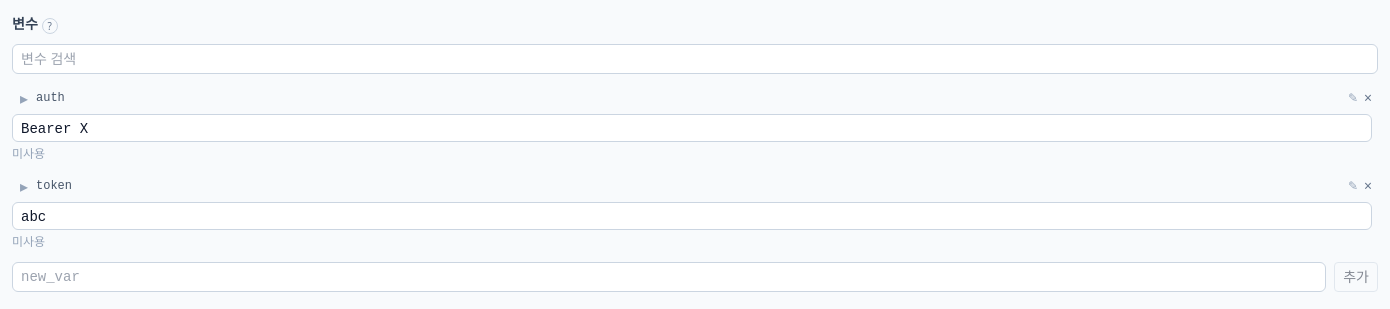
VariablesPanel › filters rows by case-insensitive substring over name, value, and branch display
Step 1. Type "AUT" into the field with placeholder "변수 검색" → (695, 59), box [12,44,1378,74]
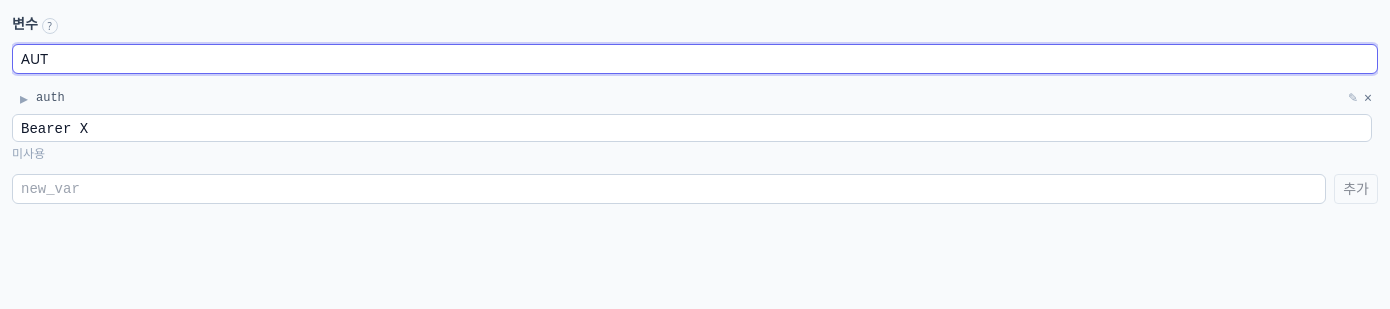
Expected: the text "auth" is shown, [36,91,65,105]
Now the text "token" is gone
Step 2. Replace the text in the field with placeholder "변수 검색" with "bearer" → (695, 59), box [12,44,1378,74]
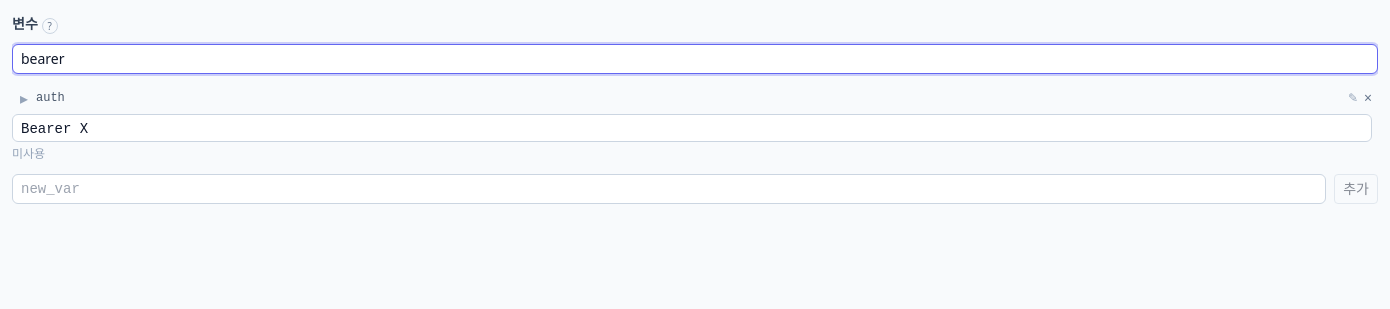
Expected: the text "auth" is shown, [36,91,65,105]
Step 3. Replace the text in the field with placeholder "변수 검색" with "zzz" → (695, 59), box [12,44,1378,74]
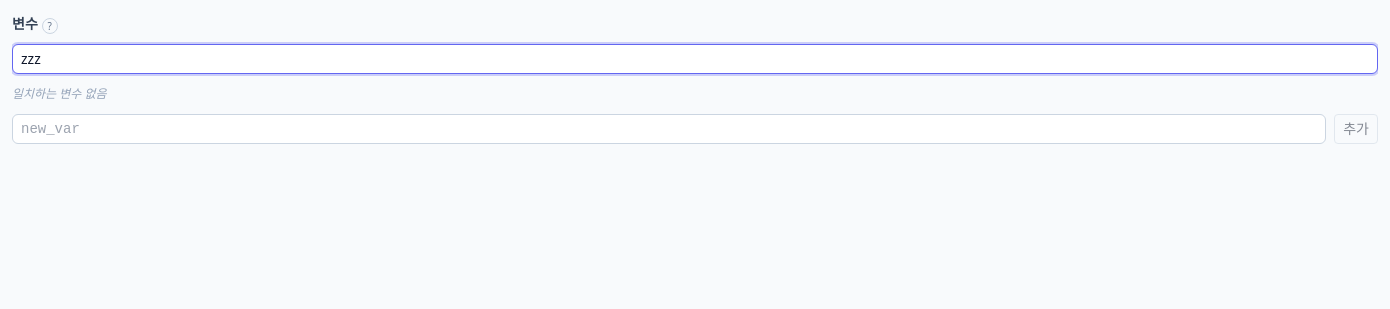
Now the list item "일치하는 변수 없음" is shown, box [12,86,107,102]
